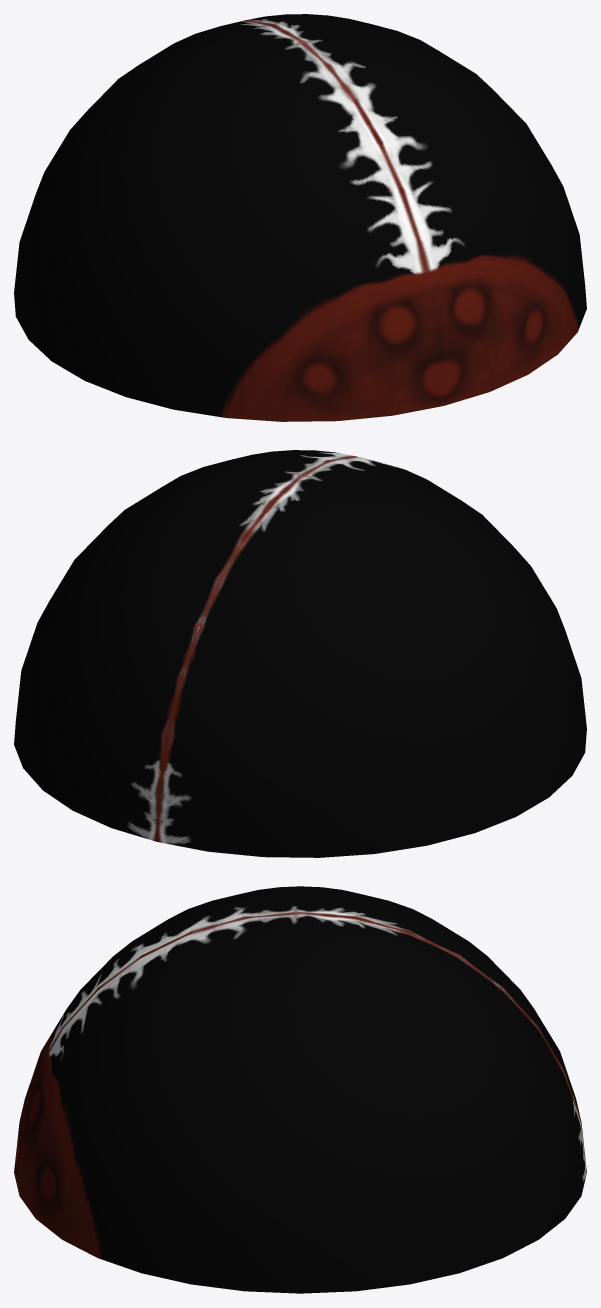
The model's file is spitter.fbx.
The picture shows the model from 3 angles, top to bottom: view 1: azimuth 30°, elevation 25°; view 2: azimuth 150°, elevation 25°; view 3: azimuth 270°, elevation 25°; orthographic projection.
Visible parts, largest first — view 1: shell; view 2: shell; view 3: shell.
Boxes of the visible parts, left/top/right/bottom form: shell: left=14, top=14, right=586, bottom=421; shell: left=14, top=450, right=586, bottom=857; shell: left=14, top=886, right=586, bottom=1293.
Size of the model in its own units: 200 by 107 by 200.
